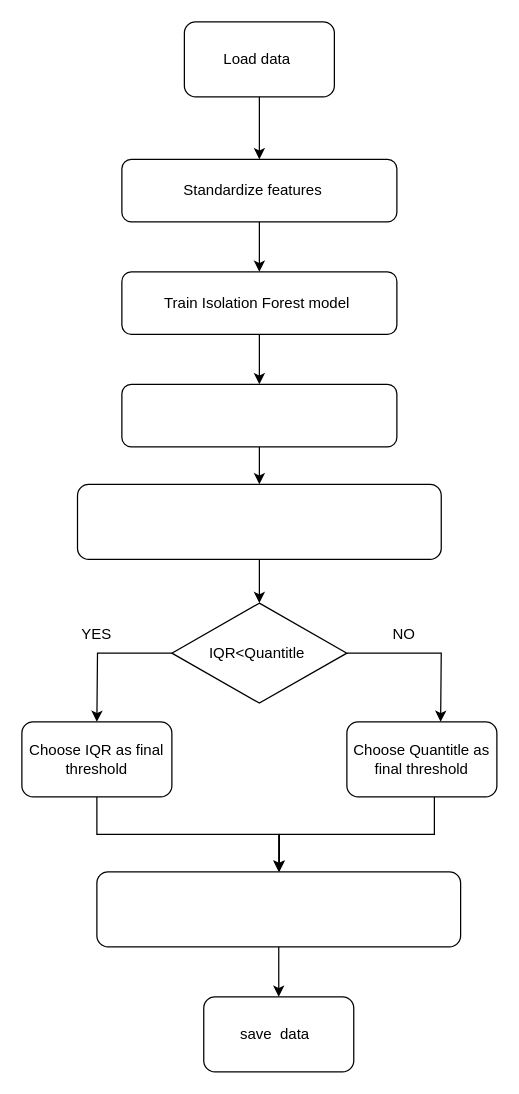
This 519x1094 diagram has some shape labels left out. Here are the shapes that lost their labels. From the top down, the centre of each, then its label:
At [259,415]: "Compute anomaly scores".
At [258,521]: "Compute IQR, Quantile".
At [278,909]: "Mark samples with score < threshold as anomalies (is_outlier)".
